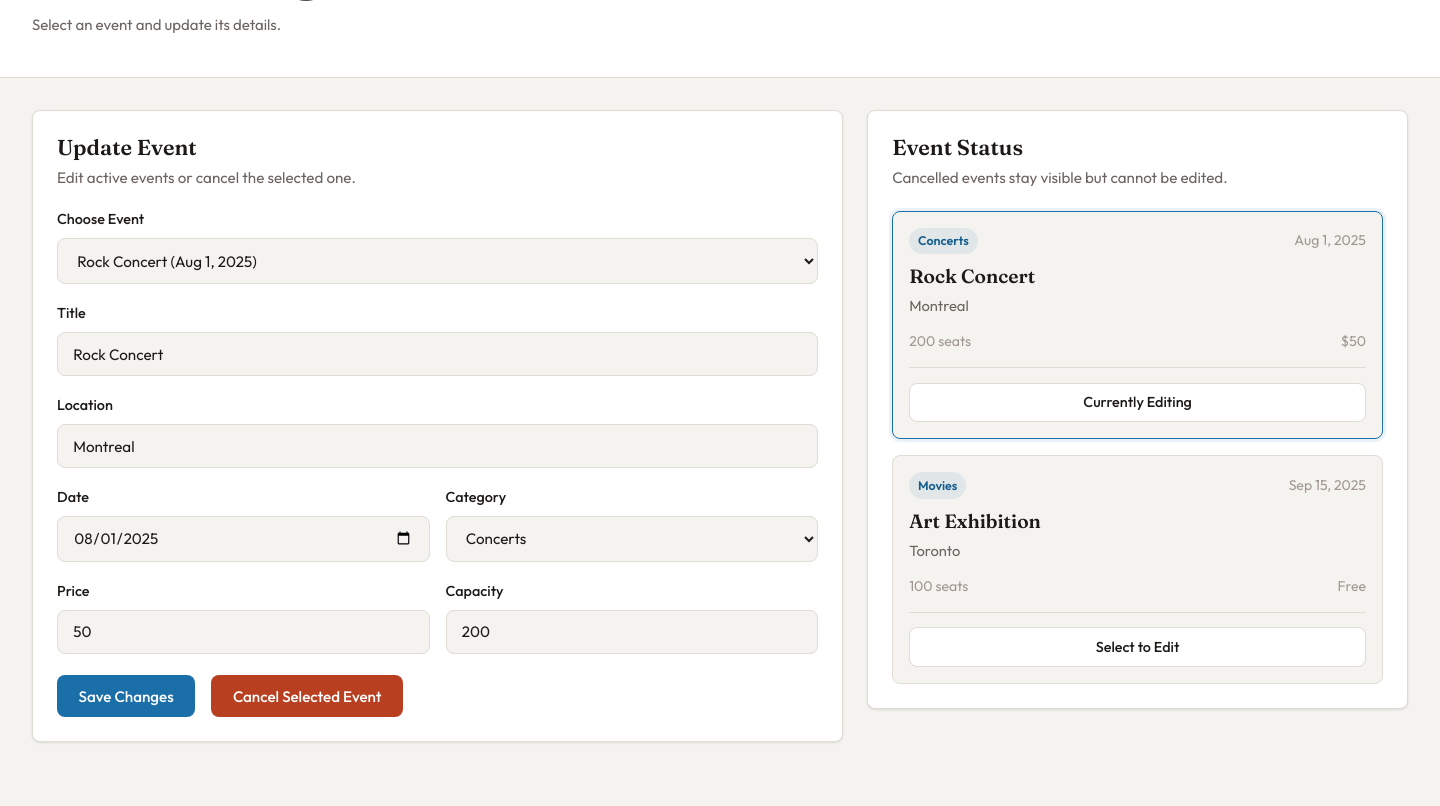
Test: EditEventsPage — cancel event › shows error notice when cancelEvent fails
This screenshot has width=1440, height=806.
(page scrolled)
Step 1. Click the button "Cancel Selected Event" → (307, 696), box [211, 676, 403, 717]
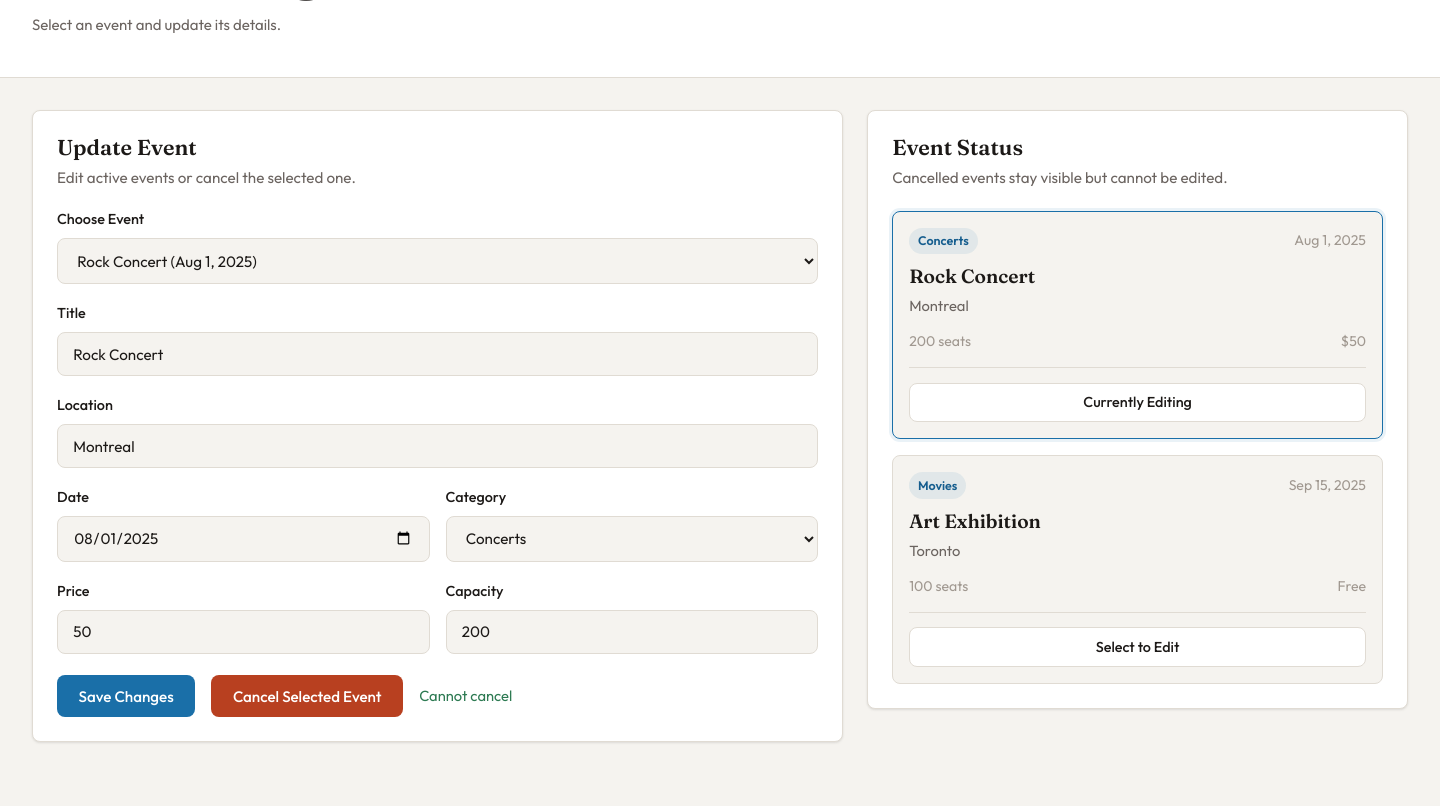
Check: the text "Cannot cancel" is shown, box [419, 684, 512, 708]
